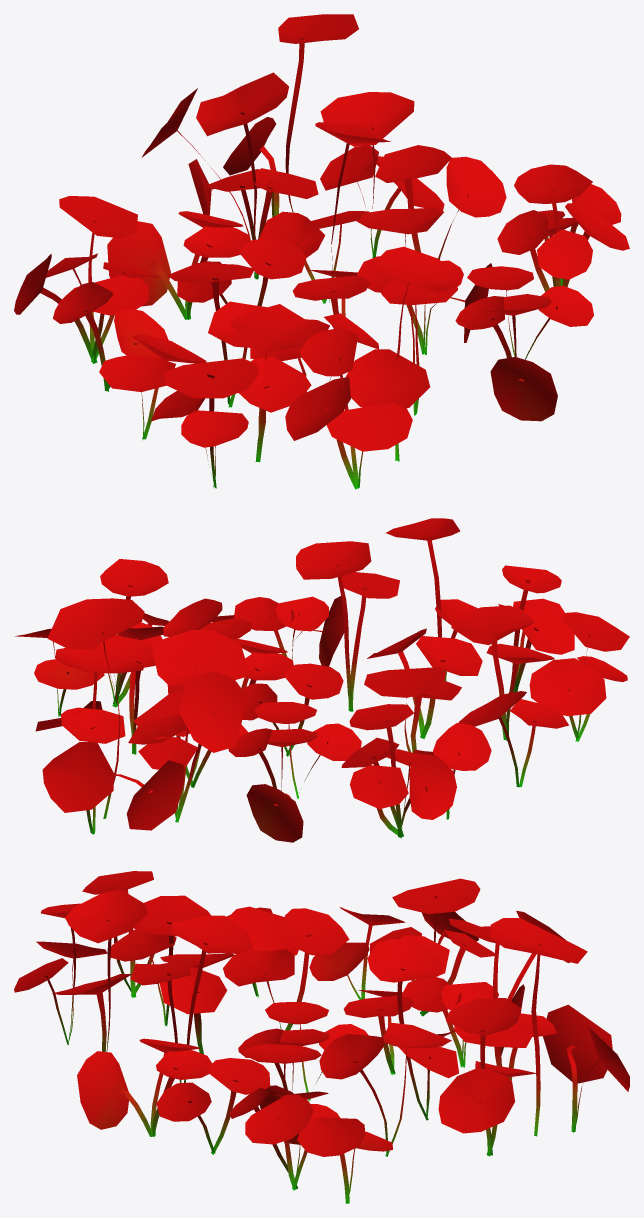
The model's file is Native Violet_LOD3_Var1_ultkcfeja.fbx.
The picture shows the model from 3 angles, top to bottom: view 1: azimuth 30°, elevation 25°; view 2: azimuth 150°, elevation 25°; view 3: azimuth 270°, elevation 25°; orthographic projection. The views are drawn at different scales.
Visible parts, largest first — view 1: _cy5v_Var1_LOD3; view 2: _cy5v_Var1_LOD3; view 3: _cy5v_Var1_LOD3.
Boxes of the visible parts, bbox=[...] form: _cy5v_Var1_LOD3: bbox=[14, 14, 629, 489]; _cy5v_Var1_LOD3: bbox=[15, 518, 629, 842]; _cy5v_Var1_LOD3: bbox=[14, 871, 629, 1203].
Bounding box in the file's own units: 39.55 × 15.55 × 41.21.
